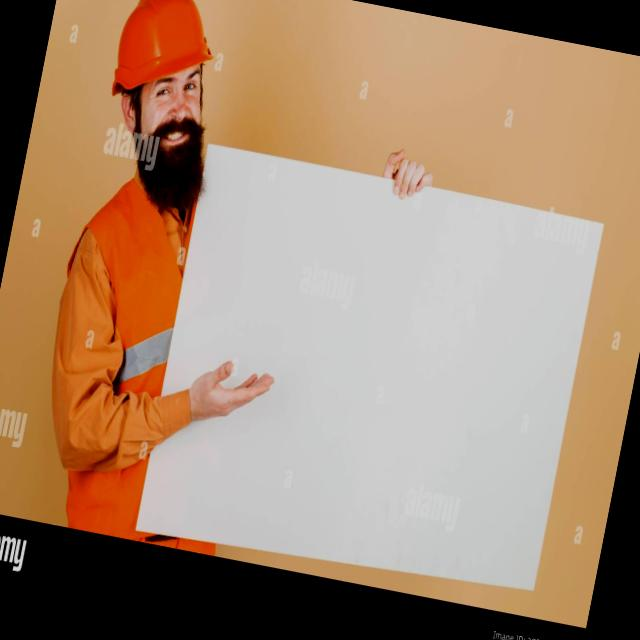helmet: (106, 0, 227, 115)
no-goggles: (136, 64, 213, 114)
vest: (39, 178, 197, 511)
